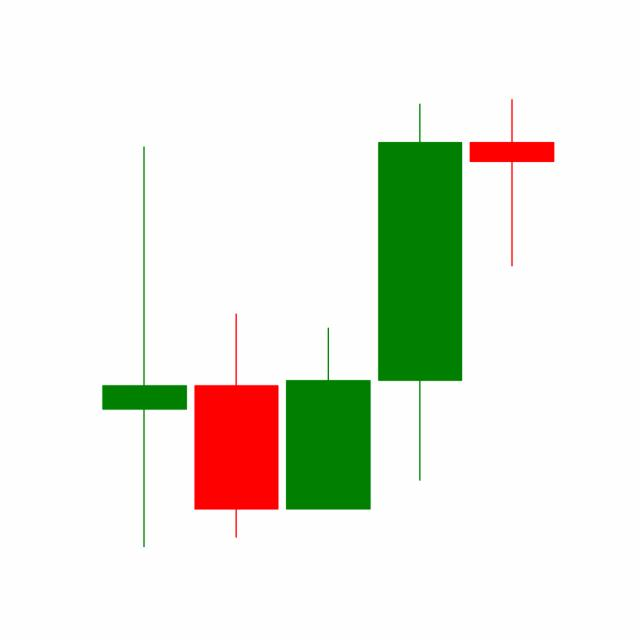Spinning Top: (464, 97, 558, 268)
